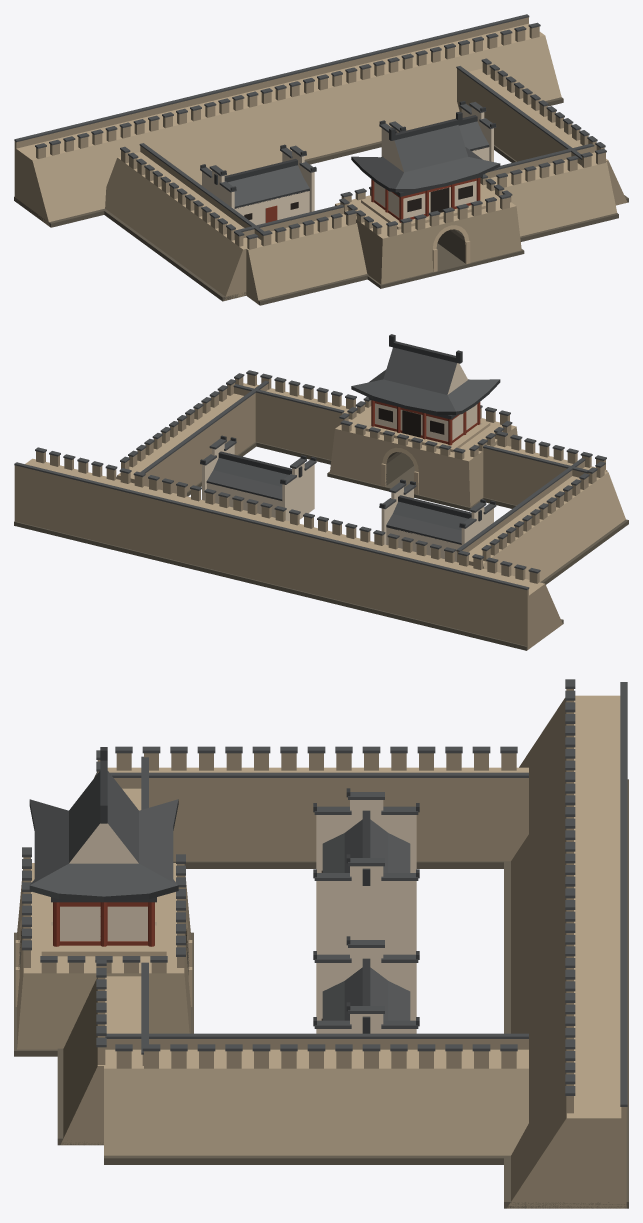
The model's file is X07_far.glb.
The picture shows the model from 3 angles, top to bottom: view 1: azimuth 30°, elevation 25°; view 2: azimuth 150°, elevation 25°; view 3: azimuth 270°, elevation 25°; orthographic projection. The views are drawn at different scales.
Visible parts, largest first — view 1: X07_far; view 2: X07_far; view 3: X07_far.
Part boxes in pixels (x1=…): X07_far: x1=14, y1=14, x2=628, y2=305; X07_far: x1=14, y1=334, x2=628, y2=650; X07_far: x1=14, y1=679, x2=628, y2=1208.
Bounding box in the file's own units: 80 × 19.53 × 49.2.
